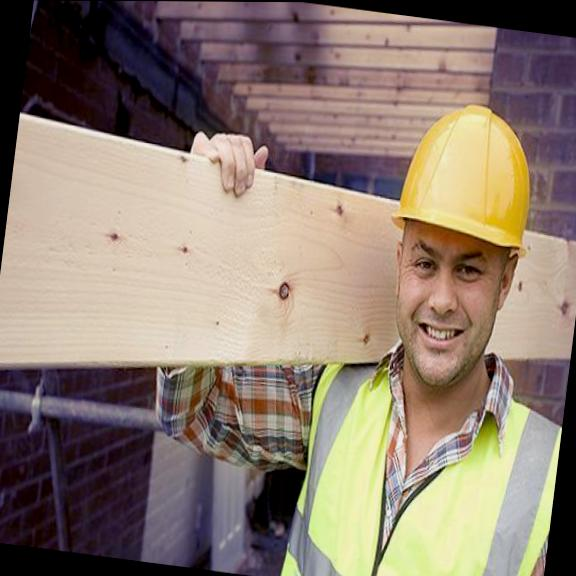safety_vest: (250, 350, 566, 576)
